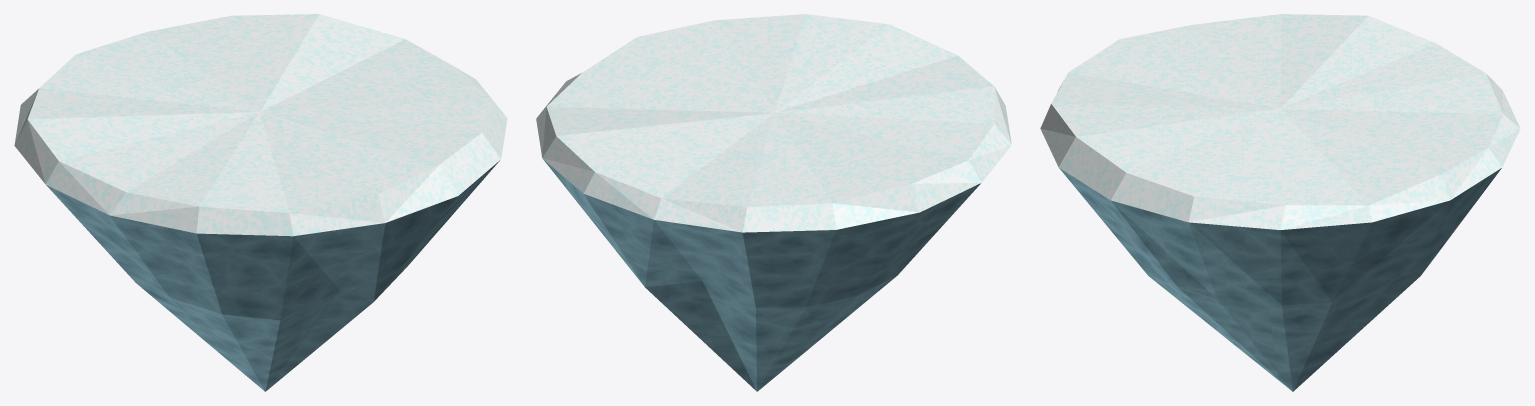
The model's file is floating_island_3.glb.
The picture shows the model from 3 angles, left to right: view 1: azimuth 30°, elevation 25°; view 2: azimuth 150°, elevation 25°; view 3: azimuth 270°, elevation 25°; orthographic projection. The views are drawn at different scales.
Visible parts, largest first — view 1: floating_island_3; view 2: floating_island_3; view 3: floating_island_3.
Part boxes in pixels (box(x1,y1,x2,y2)): floating_island_3: box(14, 14, 507, 391); floating_island_3: box(536, 14, 1011, 391); floating_island_3: box(1040, 14, 1520, 391).
Size of the model in its own units: 10.48 by 6.85 by 10.48.
2 materials, 2 textured.
